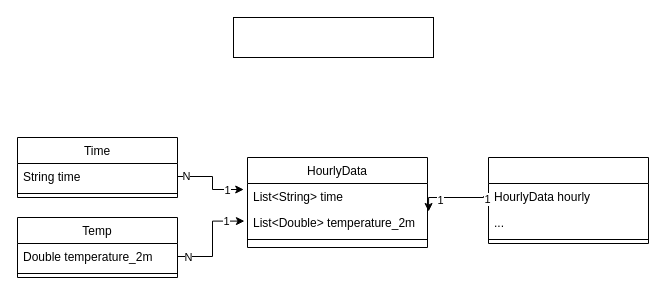
Image size: 666x295. Some labels were removed from this diagram. The box of each missing label's shape, as (x1, y1, x2, y2) in pixels:
ForecastData: (488, 156, 648, 244)
Record Klassen für das parsen des JSON bodys: (232, 16, 434, 58)
